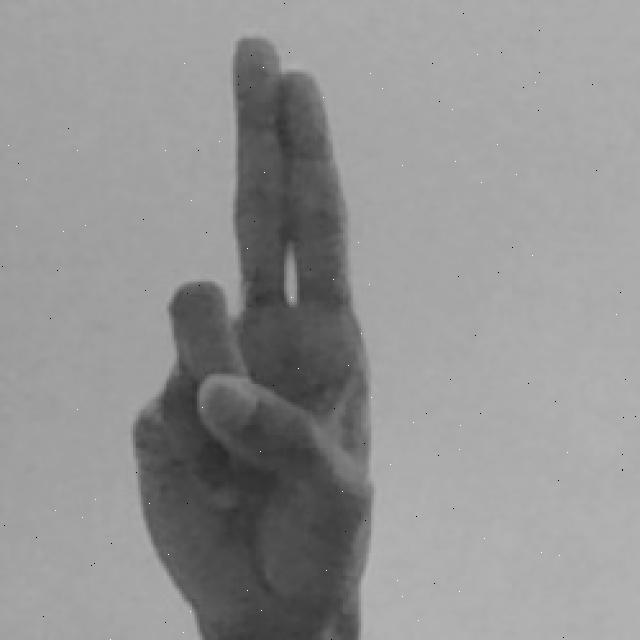U: (123, 28, 386, 640)
